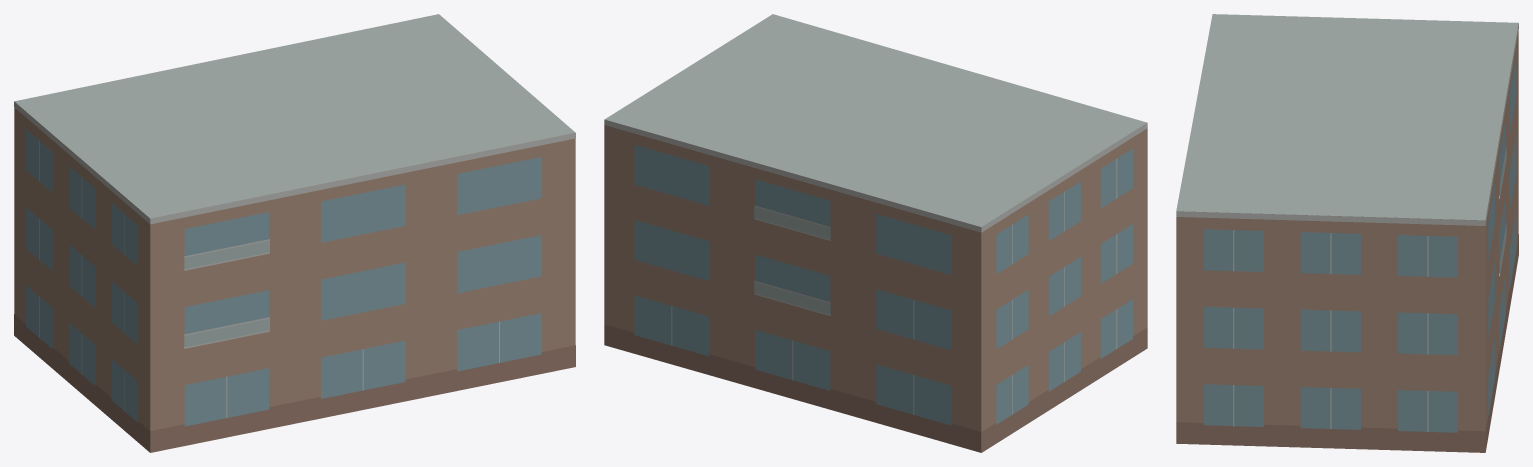
Rendered from survey-upis-32909742.glb.
3 views of the same model, side by side, from view 1: azimuth 30°, elevation 25°; view 2: azimuth 150°, elevation 25°; view 3: azimuth 270°, elevation 25° (orthographic). The views are drawn at different scales.
Visible parts, largest first — view 1: survey-upis-32909742.tmp; view 2: survey-upis-32909742.tmp; view 3: survey-upis-32909742.tmp.
Part boxes in pixels (x1,y1,x2,y2): survey-upis-32909742.tmp: (14,14,575,452); survey-upis-32909742.tmp: (604,14,1147,452); survey-upis-32909742.tmp: (1176,14,1518,452).
Bounding box in the file's own units: 19.05 × 10 × 13.36.
